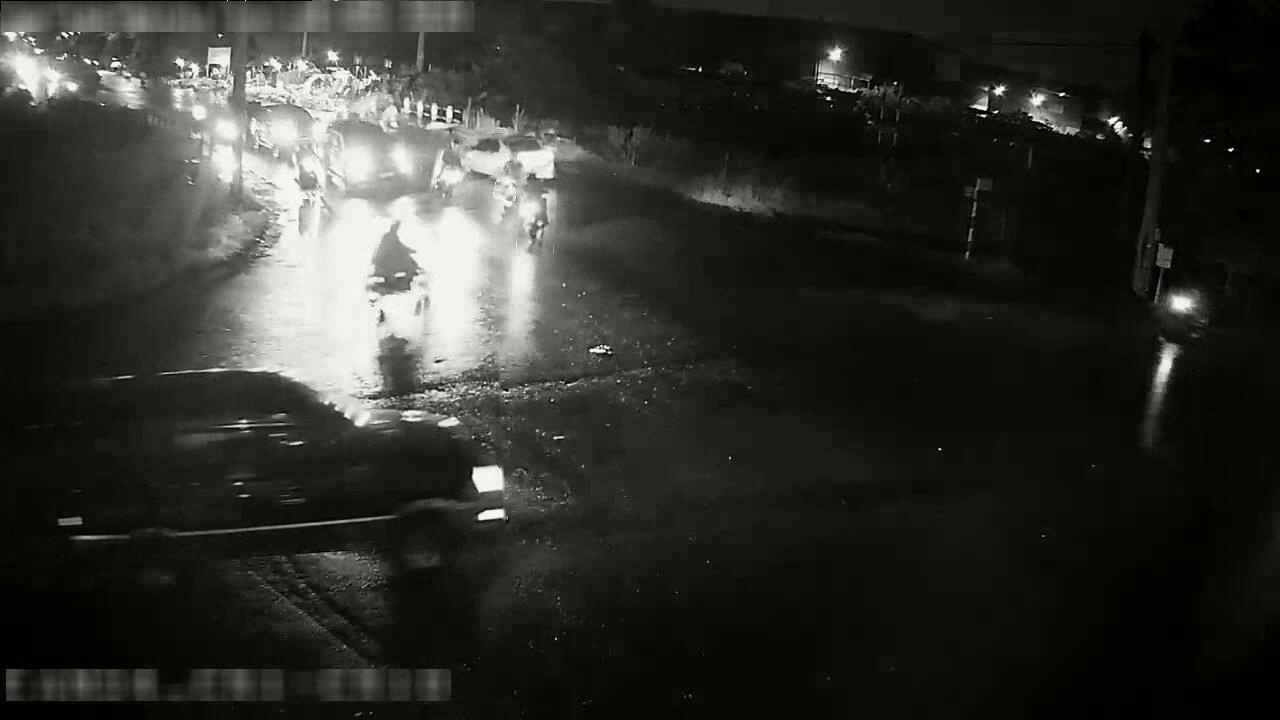Car: (0, 368, 506, 553), (321, 119, 411, 193), (503, 134, 555, 182)
Motorcyclist: (366, 220, 426, 321), (1157, 278, 1212, 344), (518, 177, 553, 250), (430, 137, 465, 200), (292, 146, 323, 201), (494, 154, 524, 203)
